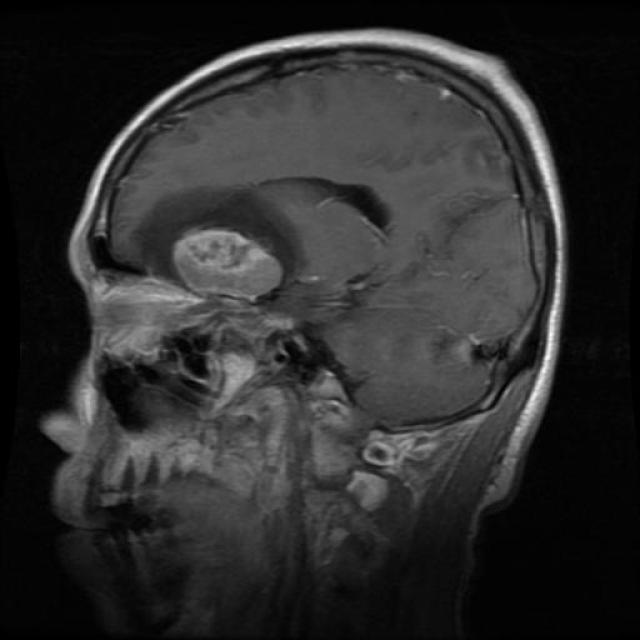meningioma: (175, 231, 284, 300)
